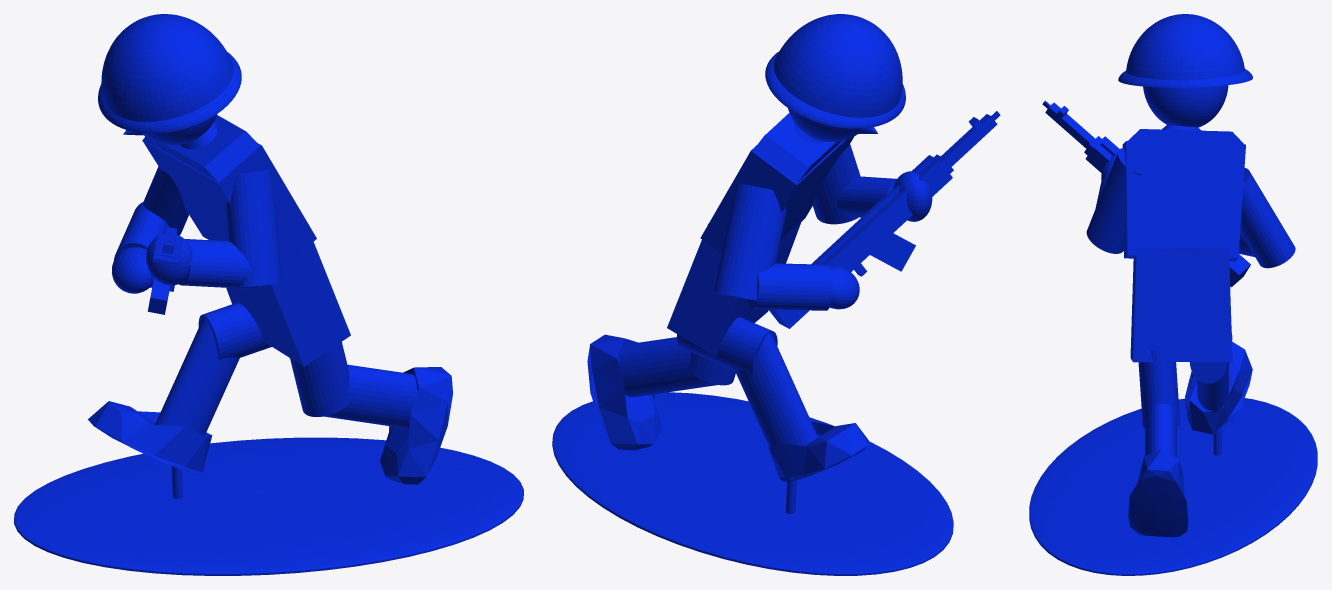
Rendered from toysoldier3(BLUE).fbx.
The picture shows the model from 3 angles, left to right: view 1: azimuth 30°, elevation 25°; view 2: azimuth 150°, elevation 25°; view 3: azimuth 270°, elevation 25°; orthographic projection. The views are drawn at different scales.
Parts seen in each view (by area): view 1: Cylinder, Cone.002, Cube, Cube.001, Icosphere.001, Cylinder.003, Cylinder.006, Icosphere.006, Cylinder.007, Cylinder.008, Cylinder.002, Cylinder.004 (+5 smaller); view 2: Cylinder, Cone.002, Cube, Cube.007, Cylinder.001, Cube.001, Icosphere.001, Cylinder.006, Cylinder.007, Cylinder.005, Icosphere.006, Cylinder.004 (+5 smaller); view 3: Cylinder, Cube, Cube.001, Cone.002, Icosphere.001, Cylinder.001, Cylinder.003, Icosphere.006, Cube.007, Cylinder.008, Cylinder.007, Cylinder.006 (+1 smaller).
Boxes of the visible parts, left/top/right/bottom form: Cylinder: left=14, top=437, right=523, bottom=575; Cone.002: left=98, top=14, right=241, bottom=145; Cube: left=142, top=115, right=316, bottom=270; Cube.001: left=226, top=242, right=350, bottom=366; Icosphere.001: left=380, top=367, right=452, bottom=484; Cylinder.003: left=225, top=168, right=281, bottom=287; Cylinder.006: left=155, top=317, right=239, bottom=435; Icosphere.006: left=88, top=401, right=212, bottom=472; Cylinder.007: left=324, top=364, right=417, bottom=428; Cylinder.008: left=290, top=342, right=349, bottom=416; Cylinder.002: left=179, top=239, right=257, bottom=289; Cylinder.004: left=198, top=302, right=271, bottom=359; Cylinder: left=552, top=392, right=953, bottom=575; Cone.002: left=765, top=14, right=905, bottom=141; Cube: left=700, top=113, right=854, bottom=253; Cube.007: left=768, top=111, right=1000, bottom=328; Cylinder.001: left=713, top=182, right=787, bottom=300; Cube.001: left=667, top=219, right=802, bottom=356; Icosphere.001: left=587, top=334, right=662, bottom=450; Cylinder.006: left=735, top=333, right=818, bottom=446; Cylinder.007: left=619, top=337, right=716, bottom=397; Cylinder.005: left=747, top=263, right=832, bottom=310; Icosphere.006: left=768, top=422, right=868, bottom=481; Cylinder.004: left=677, top=317, right=777, bottom=375; Cylinder: left=1029, top=398, right=1317, bottom=575; Cube: left=1122, top=129, right=1245, bottom=261; Cube.001: left=1130, top=248, right=1232, bottom=362; Cone.002: left=1118, top=14, right=1252, bottom=127; Icosphere.001: left=1128, top=449, right=1188, bottom=537; Cylinder.001: left=1240, top=168, right=1295, bottom=268; Cylinder.003: left=1086, top=147, right=1142, bottom=253; Icosphere.006: left=1185, top=341, right=1252, bottom=434; Cube.007: left=1042, top=100, right=1250, bottom=287; Cylinder.008: left=1138, top=349, right=1180, bottom=427; Cylinder.007: left=1145, top=404, right=1176, bottom=457; Cylinder.006: left=1197, top=362, right=1228, bottom=412.
Bounding box in the file's own units: 395 × 448 × 271.
